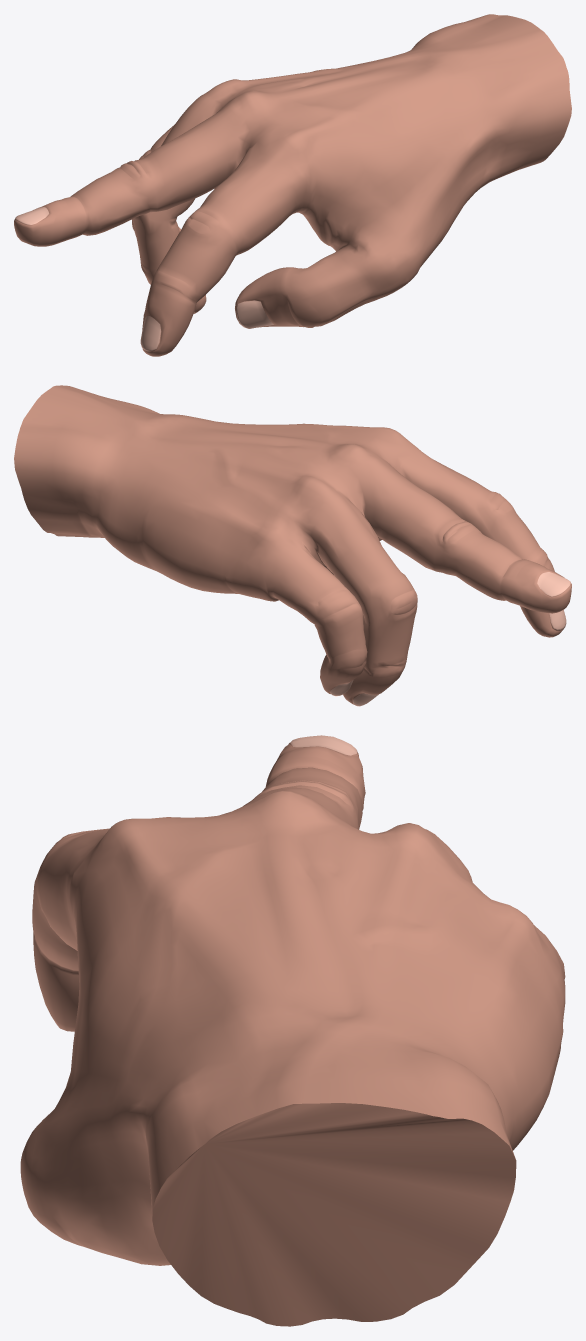
The model's file is hand_22.obj.
3 renders of one model, top to bottom at view 1: azimuth 30°, elevation 25°; view 2: azimuth 150°, elevation 25°; view 3: azimuth 270°, elevation 25°, orthographic. The views are drawn at different scales.
Visible parts, largest first — view 1: Figure_2; view 2: Figure_2; view 3: Figure_2.
Part boxes in pixels (<box>): Figure_2: <box>14,14,571,356</box>; Figure_2: <box>14,385,571,706</box>; Figure_2: <box>20,735,565,1326</box>.
Bounding box in the file's own units: 0.891 × 0.3756 × 0.4038.
